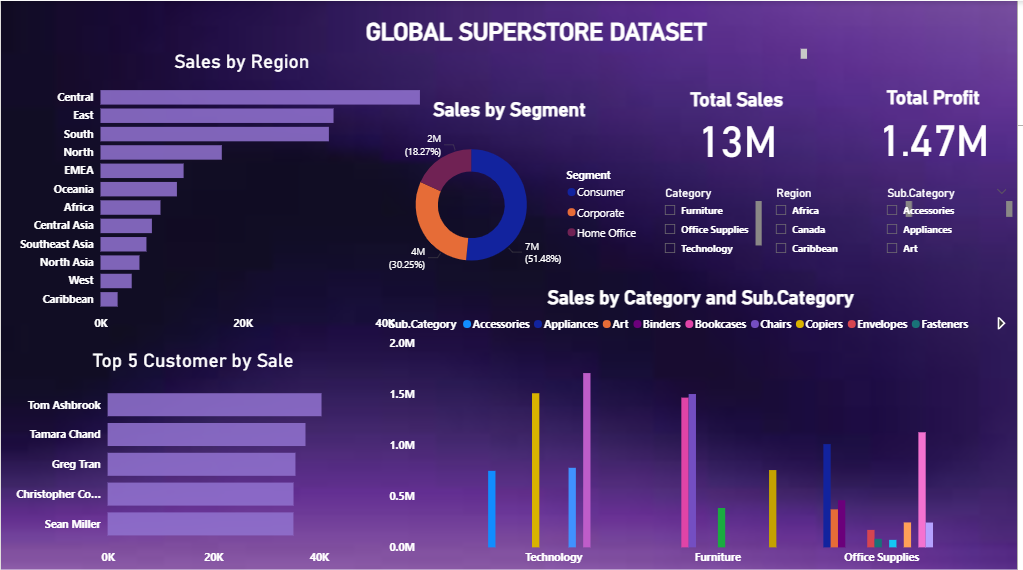

What the dashboard file says about the page in this screenshot:
{"tool":"powerbi","page":{"name":"Page 1","canvas":[1280,720],"ordinal":0},"visuals":[{"type":"card","title":"Total Sales","fields":{"Values":["Sum(superstore (2).Sales)"]},"box":[833.4,109.6,187.1,94.5],"z":0},{"type":"card","title":"Total Profit","fields":{"Values":["Sum(superstore (2).Profit)"]},"box":[1081,107.7,187.1,96.4],"z":1000},{"type":"barChart","title":"Top 5 Customer by Sale","fields":{"Category":["superstore (2).Customer.Name"],"Y":["Sum(superstore (2).Sales)"]},"box":[0,438.4,483.8,281.6],"z":2000},{"type":"barChart","title":"Sales by Region","fields":{"Category":["superstore (2).Region"],"Y":["Sum(superstore (2).Sales)"]},"box":[17,62.4,572.6,362.8],"z":3000},{"type":"clusteredColumnChart","title":"Sales by Category and Sub.Category","fields":{"Category":["superstore (2).Category"],"Y":["Sum(superstore (2).Sales)"],"Series":["superstore (2).Sub.Category"]},"box":[483.8,359.1,795.6,360.9],"z":4000},{"type":"donutChart","title":"Sales by Segment","fields":{"Category":["superstore (2).Segment"],"Y":["Sum(superstore (2).Sales)"]},"box":[466.8,122.8,347.7,240],"z":5000},{"type":"slicer","fields":{"Values":["superstore (2).Region"]},"box":[963.8,228.7,189,96.4],"z":6000},{"type":"slicer","fields":{"Values":["superstore (2).Sub.Category"]},"box":[1103.6,228.7,175.7,96.4],"z":7000},{"type":"slicer","fields":{"Values":["superstore (2).Category"]},"box":[823.9,228.7,139.8,96.4],"z":8000},{"type":"textbox","title":"GLOBAL SUPERSTORE DATASET","box":[328.8,20.8,691.7,56.7],"z":9000}]}

Visuals, with their boxes in screenshot pixels (x1, y1, x2, y2), scaled from the page's 1280x720 canvas onto the 1023x570 screenshot:
"Total Sales" card: x1=666, y1=87, x2=816, y2=162
"Total Profit" card: x1=864, y1=85, x2=1013, y2=162
"Top 5 Customer by Sale" barChart: x1=0, y1=347, x2=387, y2=569
"Sales by Region" barChart: x1=14, y1=49, x2=471, y2=337
"Sales by Category and Sub.Category" clusteredColumnChart: x1=387, y1=284, x2=1022, y2=569
"Sales by Segment" donutChart: x1=373, y1=97, x2=651, y2=287
slicer - superstore (2).Region: x1=770, y1=181, x2=921, y2=257
slicer - superstore (2).Sub.Category: x1=882, y1=181, x2=1022, y2=257
slicer - superstore (2).Category: x1=658, y1=181, x2=770, y2=257
"GLOBAL SUPERSTORE DATASET" textbox: x1=263, y1=16, x2=816, y2=61
